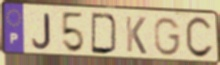5: (59, 12, 86, 54)
C: (184, 16, 215, 61)
D: (90, 11, 120, 56)
G: (152, 16, 182, 58)
J: (30, 12, 52, 50)
K: (124, 15, 148, 56)
